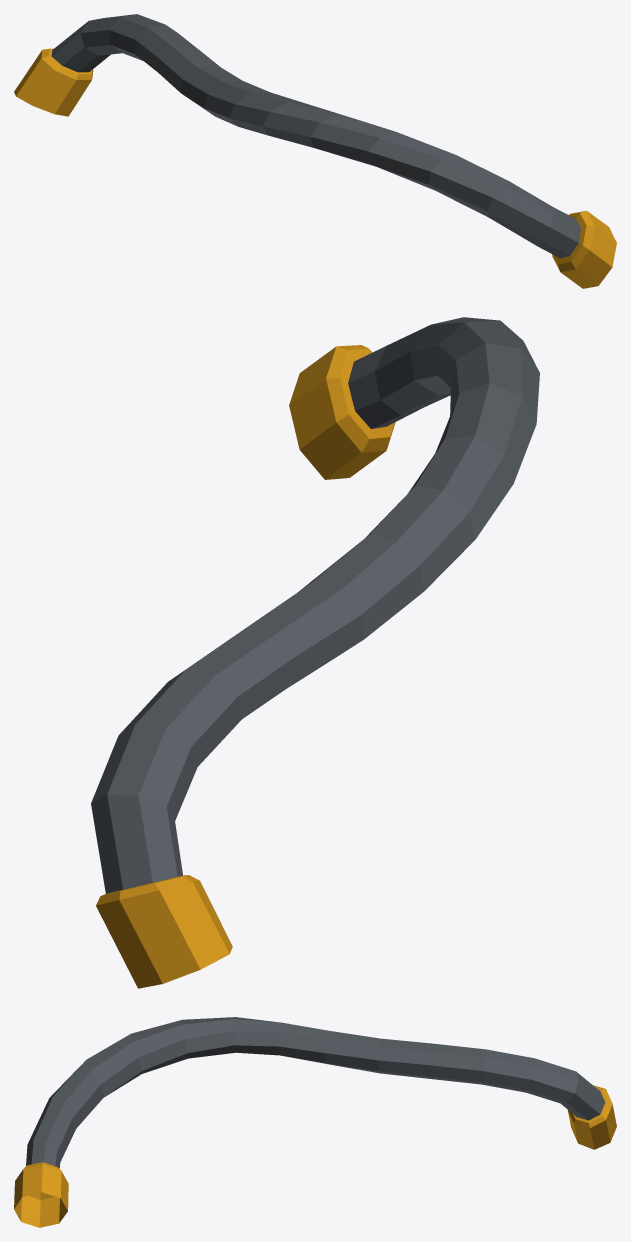
The model's file is Personal_Vehicle_04_Connecting_Tubes_2_Yellow.fbx.
The picture shows the model from 3 angles, top to bottom: view 1: azimuth 30°, elevation 25°; view 2: azimuth 150°, elevation 25°; view 3: azimuth 270°, elevation 25°; orthographic projection. The views are drawn at different scales.
Visible parts, largest first — view 1: Personal_Vehicle_04_Connecting_Tubes_2_Yellow; view 2: Personal_Vehicle_04_Connecting_Tubes_2_Yellow; view 3: Personal_Vehicle_04_Connecting_Tubes_2_Yellow.
Boxes of the visible parts, x1,y1,x2,y2 form: Personal_Vehicle_04_Connecting_Tubes_2_Yellow: [14, 14, 616, 288]; Personal_Vehicle_04_Connecting_Tubes_2_Yellow: [91, 317, 539, 988]; Personal_Vehicle_04_Connecting_Tubes_2_Yellow: [14, 1017, 616, 1227].
Bounding box in the file's own units: 34 × 18.93 × 73.61.
1 material, 1 textured.
